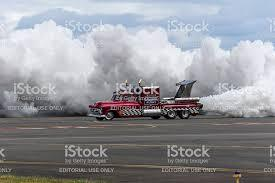smoke: (0, 20, 275, 127)
